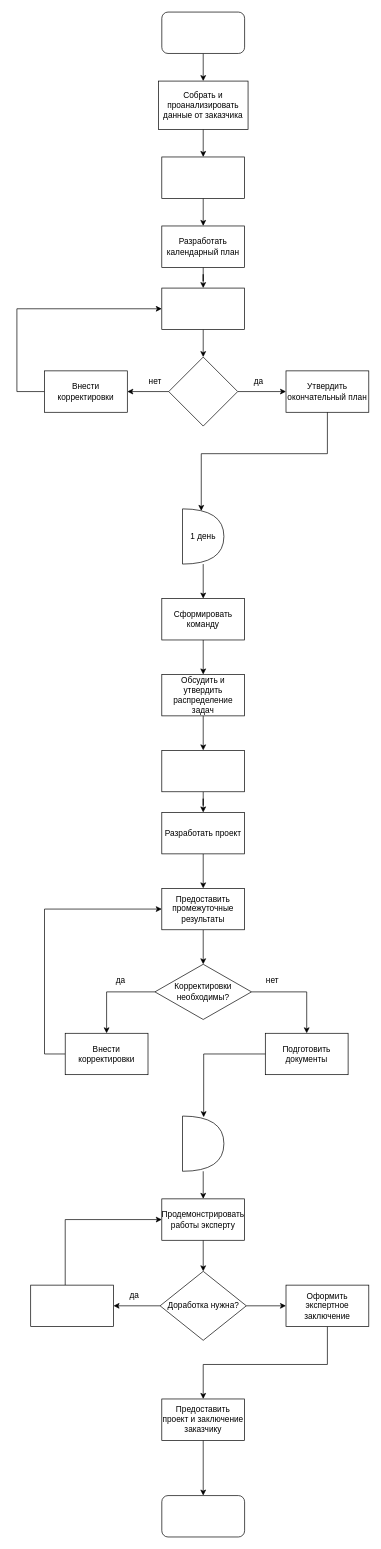
Some shapes in this 381 by 1549 pixel diagram are drawn without their labels. Here are the shapes that lost their labels. From the top down, the centre of each, then its label:
At (x=203, y=32): "Заказ принят".
At (x=203, y=177): "Оценить ресурсы и сроки".
At (x=203, y=308): "Согласовать с заказчиком".
At (x=203, y=391): "Заказ согласован?".
At (x=203, y=771): "Собрать и проанализировать данные".
At (x=203, y=1143): "5 дней".
At (x=72, y=1305): "Доработать".
At (x=203, y=1516): "Проект предоставлен".
